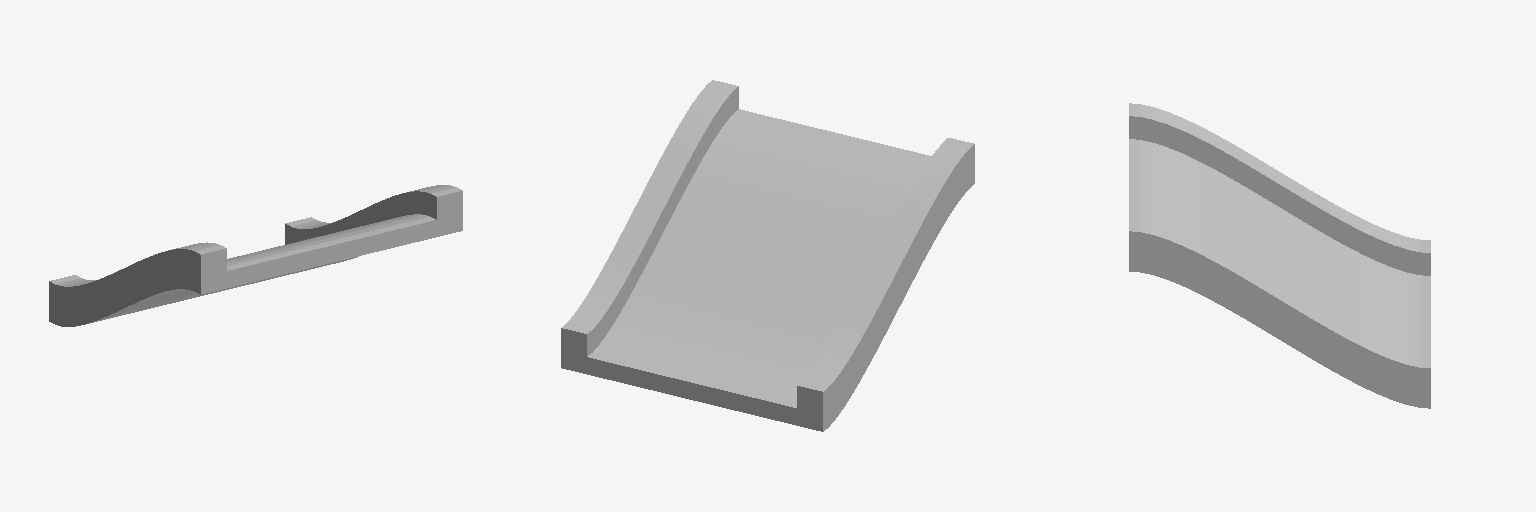
File: ramp.obj
3 renders of one model, left to right at view 1: azimuth 30°, elevation 25°; view 2: azimuth 150°, elevation 25°; view 3: azimuth 270°, elevation 25°, orthographic.
Visible parts, largest first — view 1: ramp; view 2: ramp; view 3: ramp.
Boxes of the visible parts, <box> form: ramp: <box>49,185,462,326</box>; ramp: <box>561,80,974,431</box>; ramp: <box>1129,103,1430,408</box>.
Size of the model in its own units: 0.9999 by 0.6467 by 0.9999.